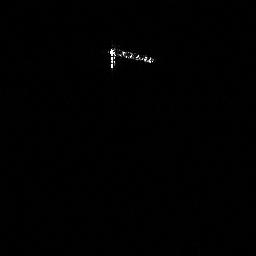ship: (105, 41, 159, 74)
